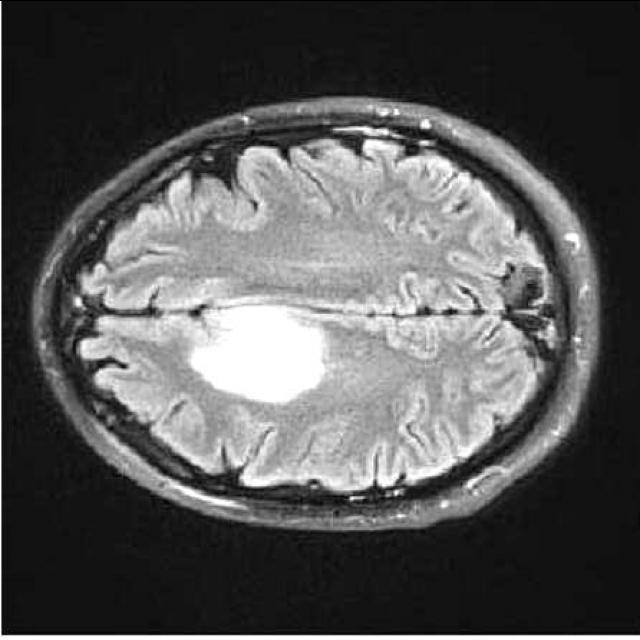tumor: (188, 300, 327, 402)
